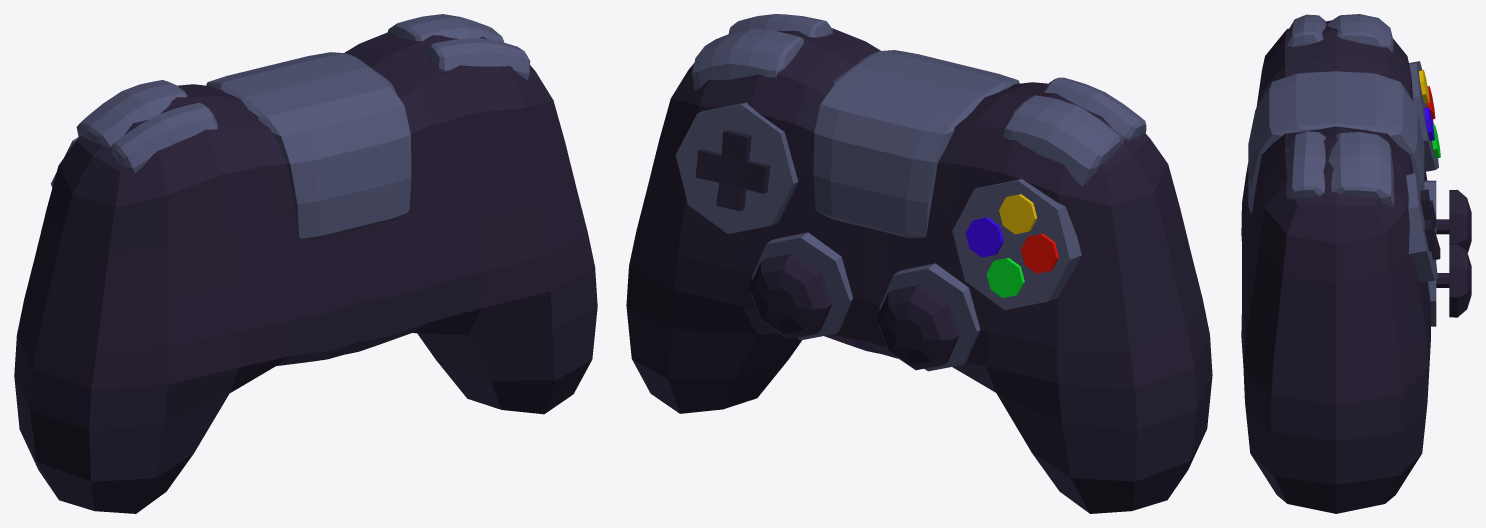
Rendered from gamepad.glb.
The picture shows the model from 3 angles, left to right: view 1: azimuth 30°, elevation 25°; view 2: azimuth 150°, elevation 25°; view 3: azimuth 270°, elevation 25°; orthographic projection. The views are drawn at different scales.
Parts seen in each view (by area): view 1: Cube.002; view 2: Cube.002; view 3: Cube.002.
Boxes of the visible parts, <box> form: Cube.002: <box>14,14,597,513</box>; Cube.002: <box>626,14,1212,513</box>; Cube.002: <box>1241,14,1471,513</box>.
Bounding box in the file's own units: 2.56 × 1.74 × 1.06.
